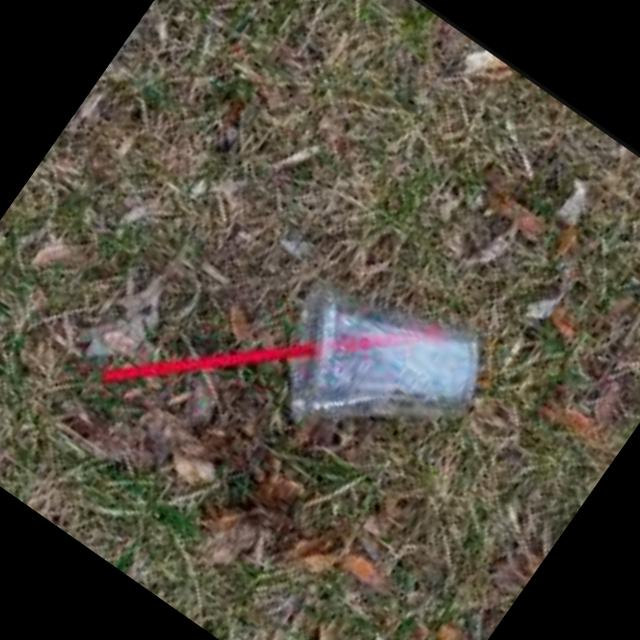GelasPlastik: (239, 239, 507, 502)
